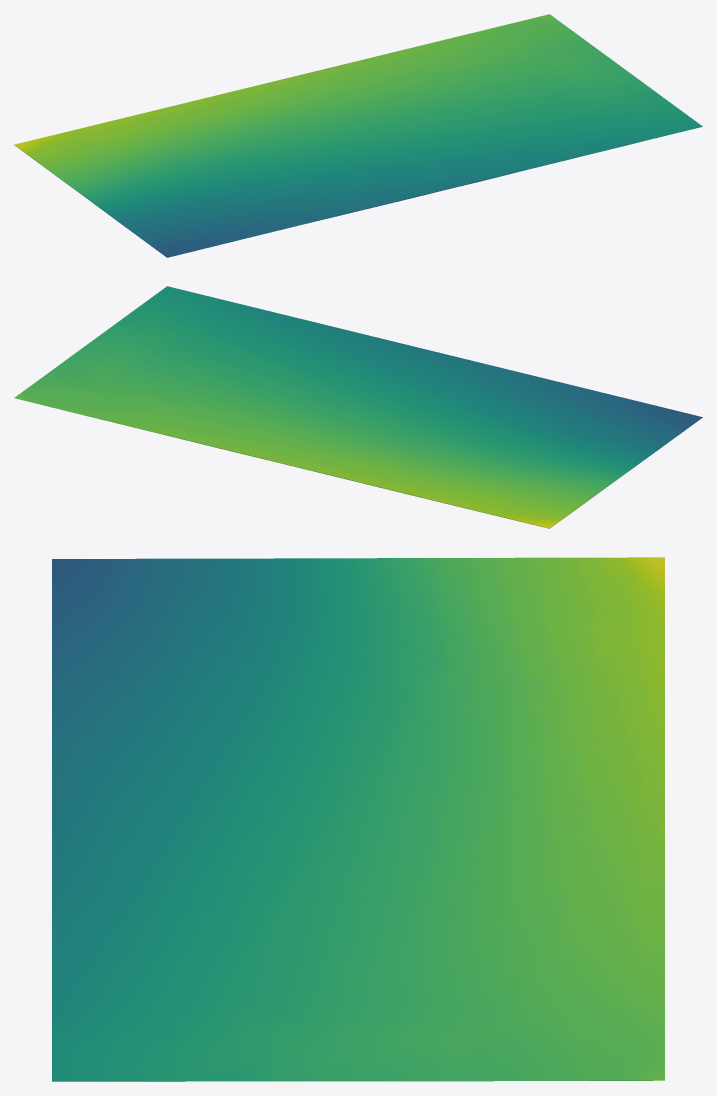
File: vol_syn.gltf
3 views of the same model, one above another, from view 1: azimuth 30°, elevation 25°; view 2: azimuth 150°, elevation 25°; view 3: azimuth 270°, elevation 25° (orthographic). The views are drawn at different scales.
Visible parts, largest first — view 1: Renderer Node; view 2: Renderer Node; view 3: Renderer Node.
Boxes of the visible parts, bbox=[...] form: Renderer Node: bbox=[14, 14, 702, 257]; Renderer Node: bbox=[14, 286, 702, 528]; Renderer Node: bbox=[52, 557, 664, 1081].
Size of the model in its own units: 27250 by 57.71 by 13500.
Materials: 1 (1 with a texture image).
